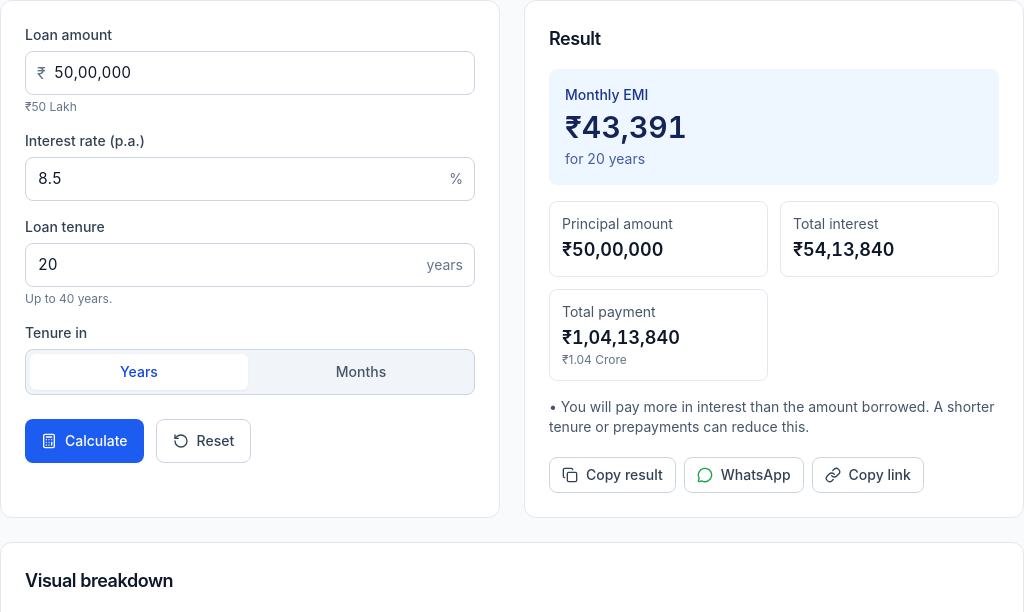
FormTool (EMI calculator) › resets to defaults
The image size is (1024, 612).
Replace the text in the field labelled "Loan amount" with "12345": (250, 73) 25,51 -> 475,95
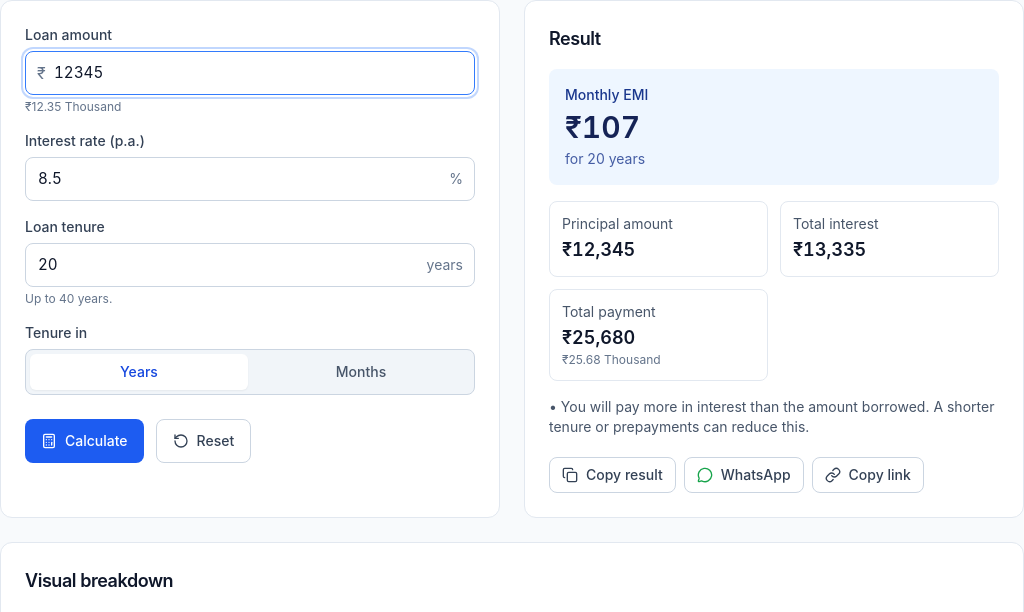
Click the button "Reset": (203, 441) 156,419 -> 251,463
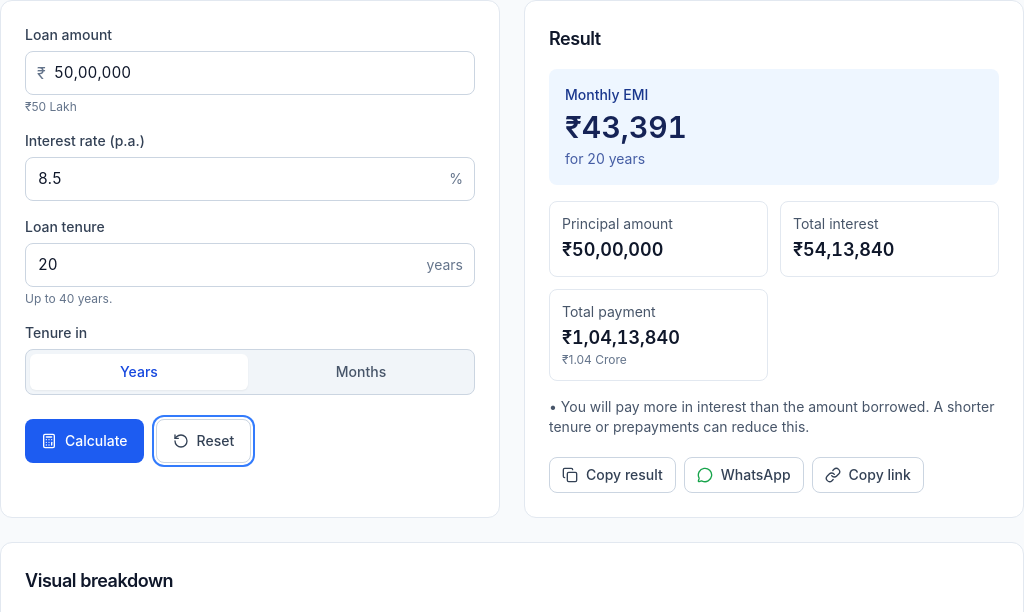
Expected: the field labelled "Loan amount" holds "50,00,000", 25,51 -> 475,95
Expected: the text "₹43,391" is shown, 565,109 -> 687,145
